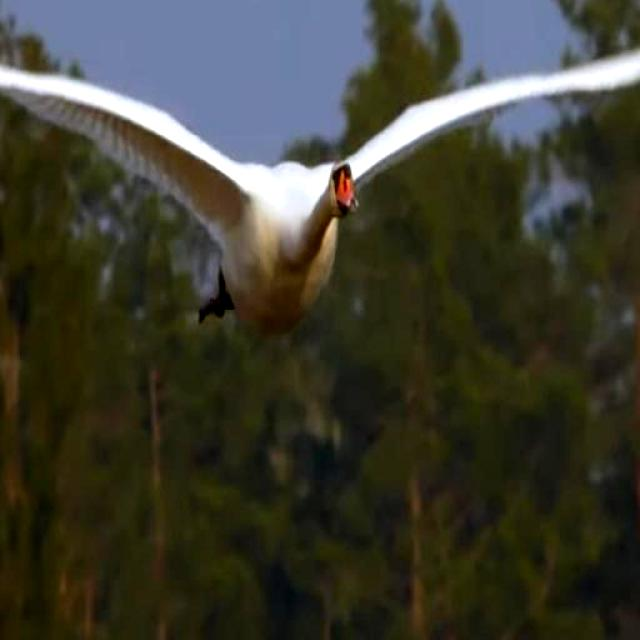airplane: (0, 0, 640, 349)
